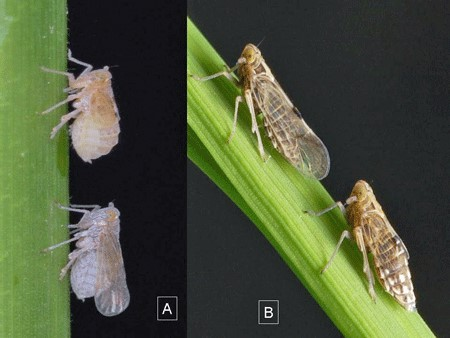Brown_hopper: (208, 34, 330, 181), (302, 178, 428, 318), (49, 186, 132, 313), (47, 41, 122, 159)
